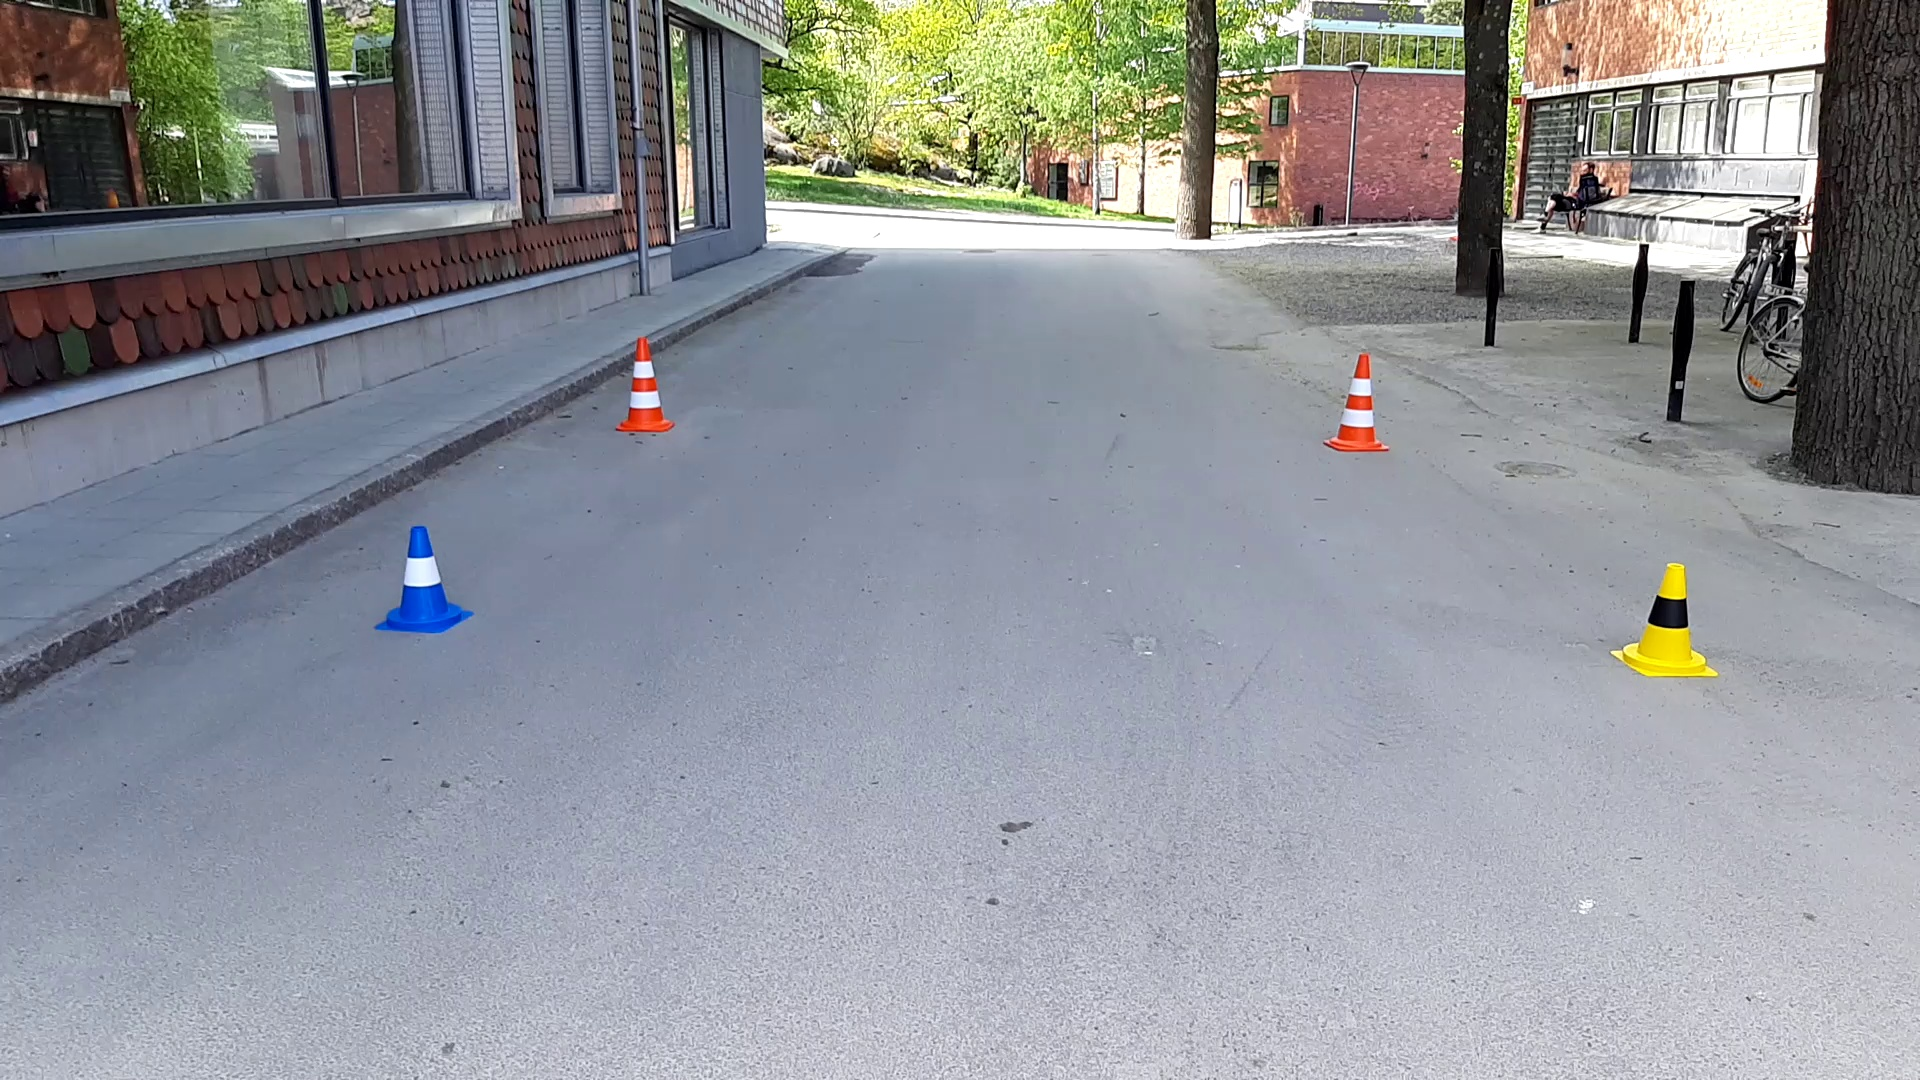Cone: (1610, 560, 1731, 678), (381, 522, 462, 636), (1320, 353, 1385, 455), (612, 336, 670, 434)
